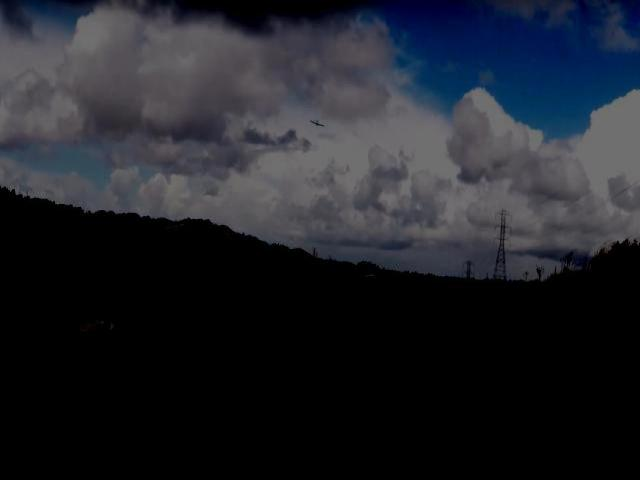iha: (307, 118, 331, 128)
